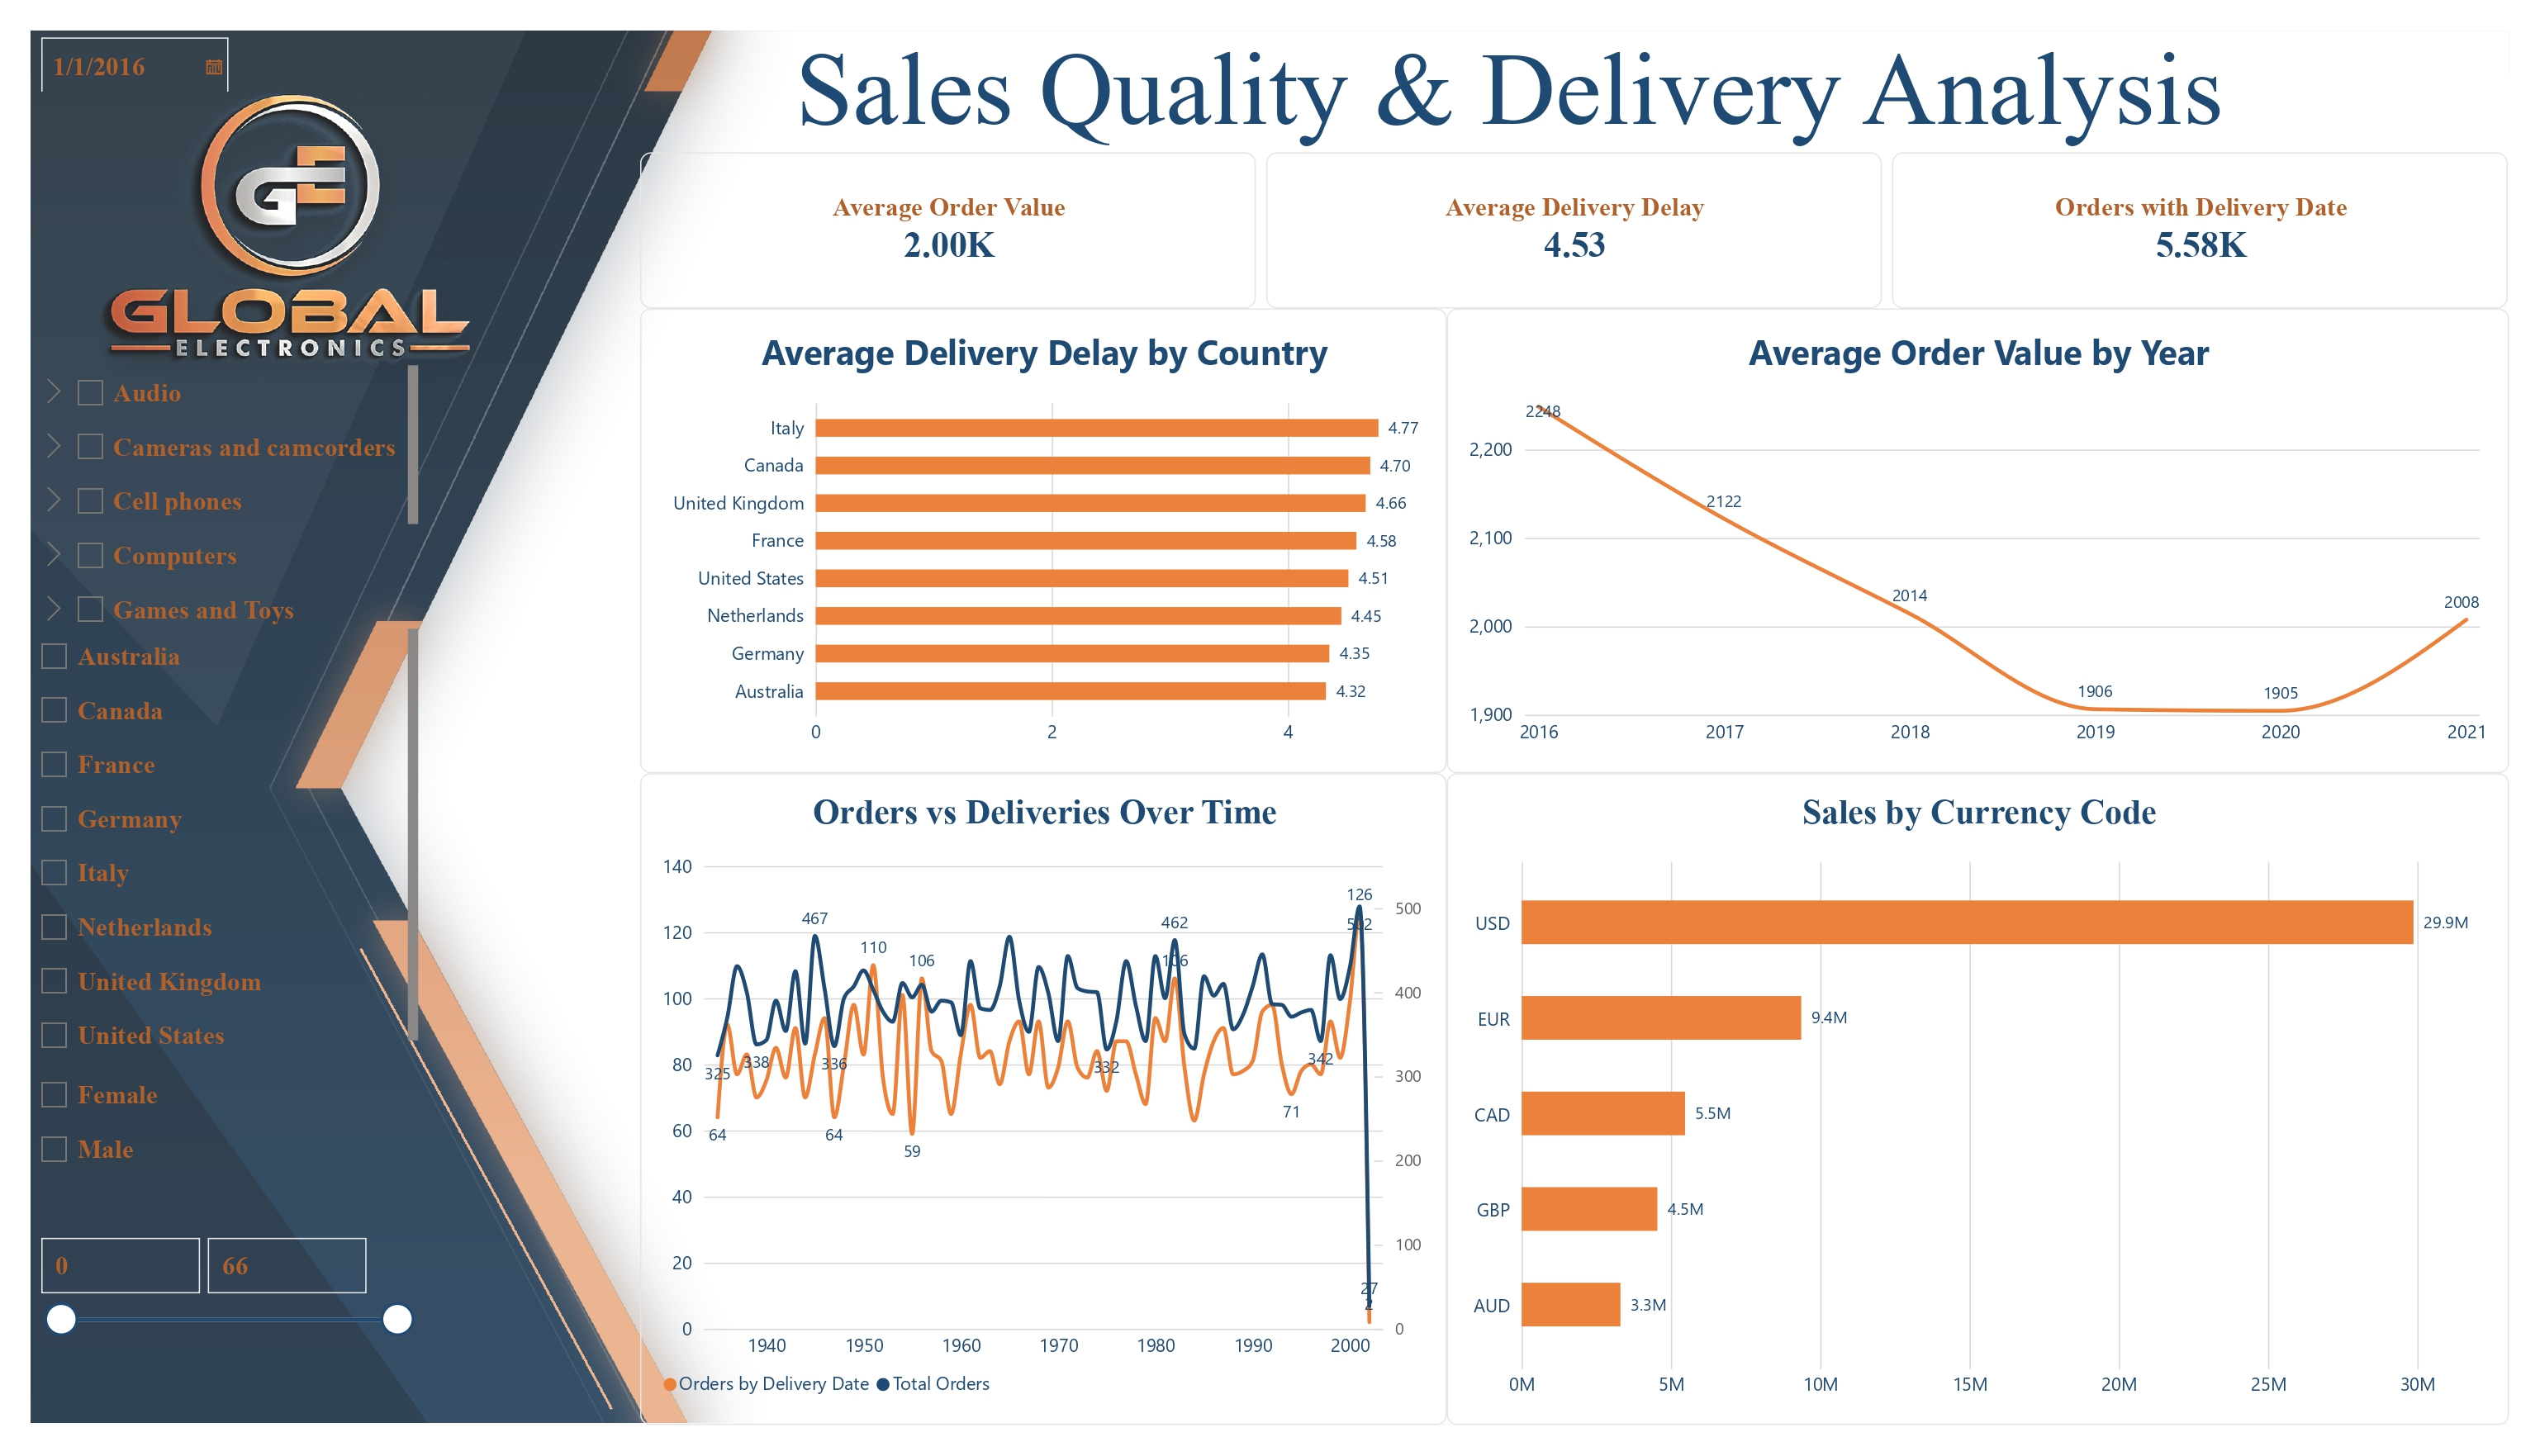

Layout of this report page (visuals, bound fields, positions):
{"tool":"powerbi","page":{"name":"Sales Quality & Delivery Analysis","canvas":[1920,1080],"ordinal":5},"visuals":[{"type":"textbox","box":[371,0,1549.1,94.1],"z":0},{"type":"slicer","fields":{"Values":["Sales.Order Date"]},"box":[0,0,300.4,47.1],"z":1},{"type":"slicer","fields":{"Values":["Products.Category","Products.Brand"]},"box":[0,258.8,300.4,204.5],"z":2},{"type":"slicer","fields":{"Values":["Customers.Country"]},"box":[0,463.3,300.4,331.2],"z":3},{"type":"slicer","fields":{"Values":["Customers.Gender"]},"box":[0,803.5,300.4,103.2],"z":4},{"type":"slicer","fields":{"Values":["Sales.StoreKey"]},"box":[0,930,300,150],"z":5},{"type":"cardVisual","fields":{"Data":["_Measures.Average Order Value","_Measures.Average Delivery Delay","_Measures.Orders with Delivery Date"]},"box":[472.3,94.1,1447.7,121.2],"z":6},{"type":"lineChart","fields":{"Category":["Sales.Order Date.Variation.Date Hierarchy.Year","Sales.Order Date.Variation.Date Hierarchy.Month"],"Y":["_Measures.Average Order Value"]},"box":[1096.7,215.3,823.4,360.1],"z":7},{"type":"clusteredBarChart","fields":{"Category":["Customers.Country"],"Y":["_Measures.Average Delivery Delay"]},"box":[472.3,215.3,624.3,360.1],"z":8},{"type":"lineChart","title":"Orders vs Deliveries Over Time","fields":{"Category":["Customers.Birthday.Variation.Date Hierarchy.Year"],"Y":["_Measures.Orders by Delivery Date"],"Y2":["_Measures.Total Orders"]},"box":[472.3,575.5,624.3,504.9],"z":9},{"type":"clusteredBarChart","title":"Sales by Currency Code","fields":{"Category":["Sales.Currency Code"],"Y":["_Measures.Total Sales"]},"box":[1097,575,823,505],"z":10}]}

Visuals, with their boxes on the page's 1920x1080 design canvas (x1, y1, x2, y2). These are canvas units, not pixel positions in the 2540x1456 screenshot, which may show the page scaled, cropped or inside an application window:
textbox: (371, 0, 1920, 94)
slicer - Sales.Order Date: (0, 0, 300, 47)
slicer - Products.Category x Products.Brand: (0, 259, 300, 463)
slicer - Customers.Country: (0, 463, 300, 794)
slicer - Customers.Gender: (0, 804, 300, 907)
slicer - Sales.StoreKey: (0, 930, 300, 1080)
cardVisual - _Measures.Average Order Value x _Measures.Average Delivery Delay: (472, 94, 1920, 215)
lineChart - Sales.Order Date.Variation.Date Hierarchy.Year x Sales.Order Date.Variation.Date Hierarchy.Month: (1097, 215, 1920, 575)
clusteredBarChart - Customers.Country x _Measures.Average Delivery Delay: (472, 215, 1097, 575)
"Orders vs Deliveries Over Time" lineChart: (472, 576, 1097, 1080)
"Sales by Currency Code" clusteredBarChart: (1097, 575, 1920, 1080)
